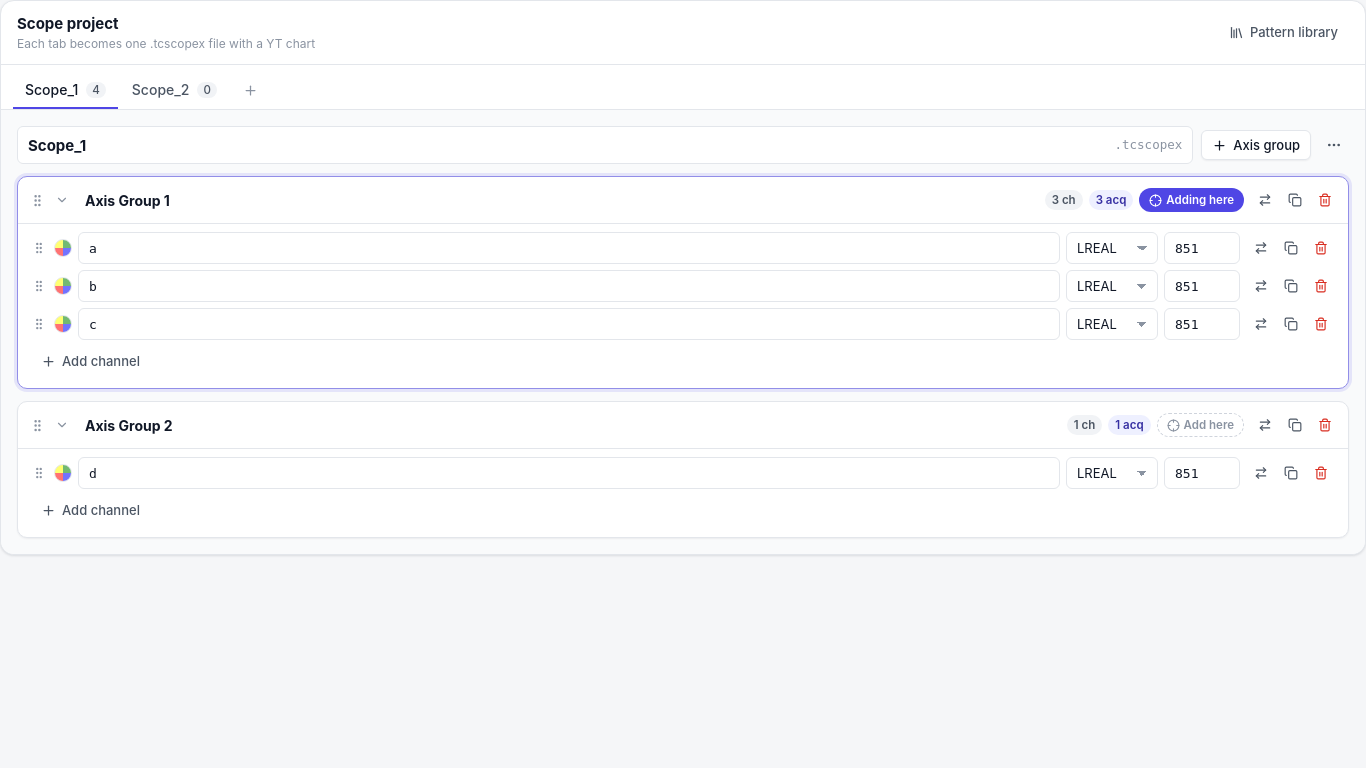
Test: "Move to…" menus › moves an axis group up, down and to another file
Later steps or results of the test are not shown.
What coordinates should you click on to do the following:
click the 1st button named "Move axis group to…"
I would click on:
 (1265, 200)
Its box is [1250,185,1280,215].
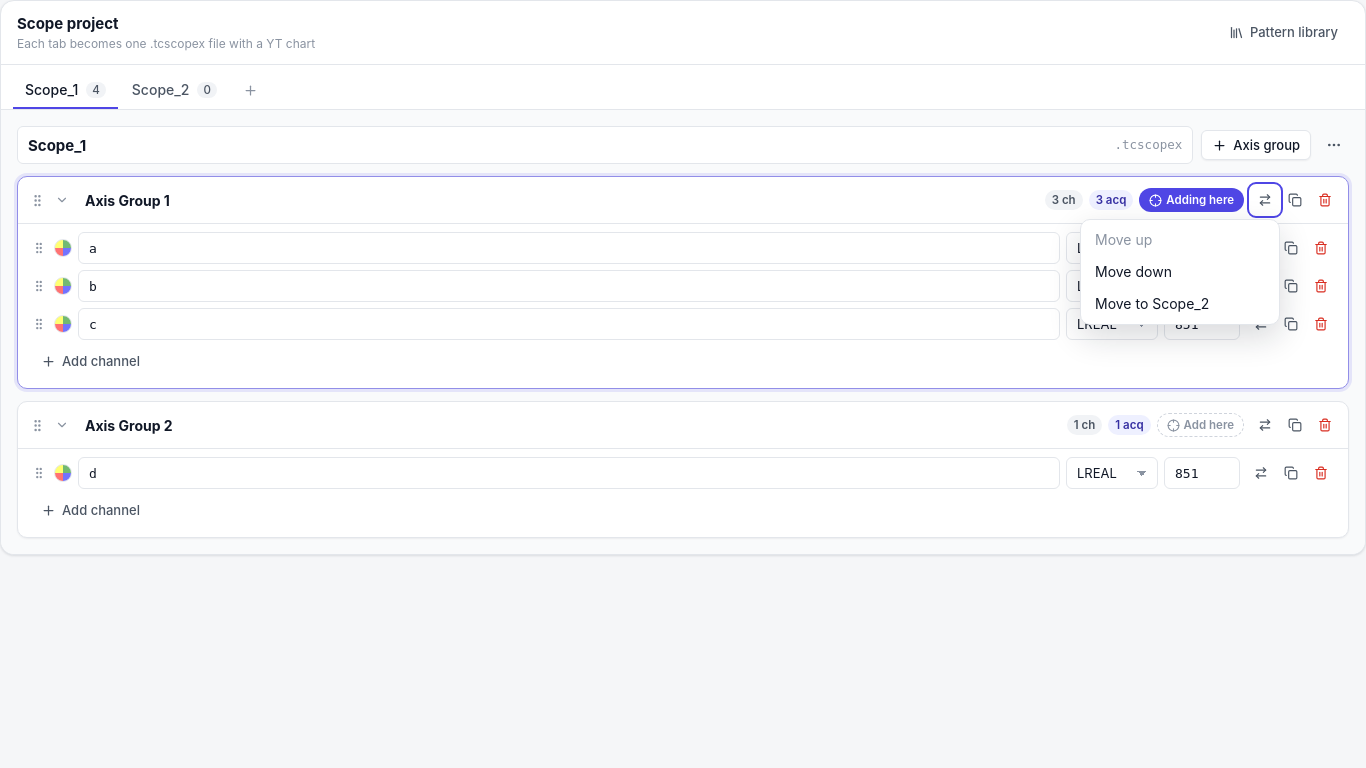
Check: the menu item "Move up" is disabled, box [1085,224,1275,256]
